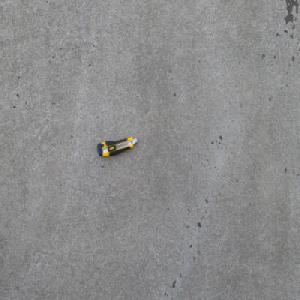Cutter: (96, 136, 137, 157)
